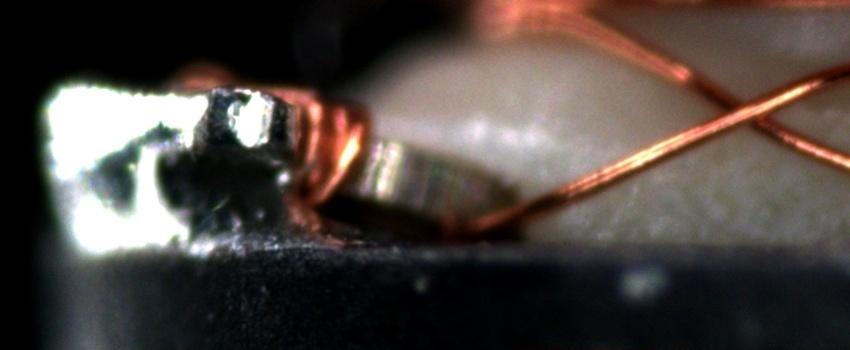CL: (696, 79, 795, 142)
TE: (257, 72, 376, 228)
